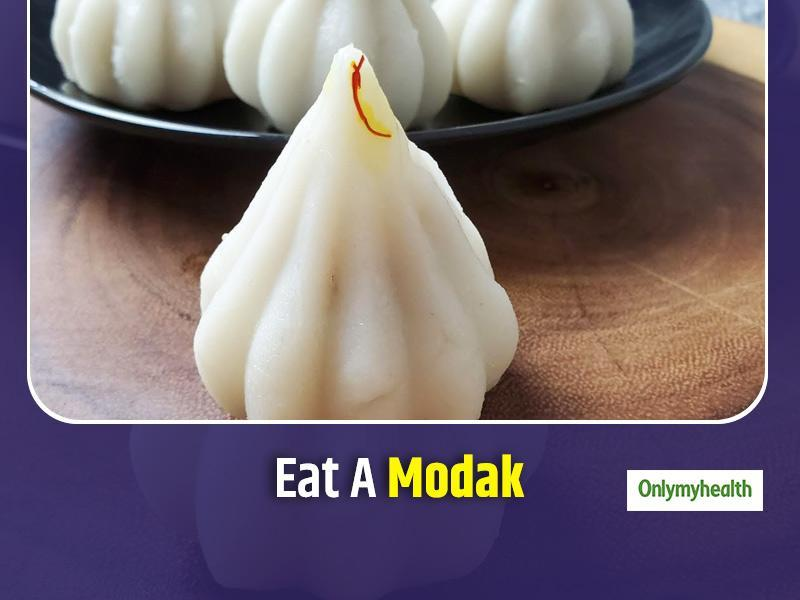modak: (249, 37, 504, 411)
